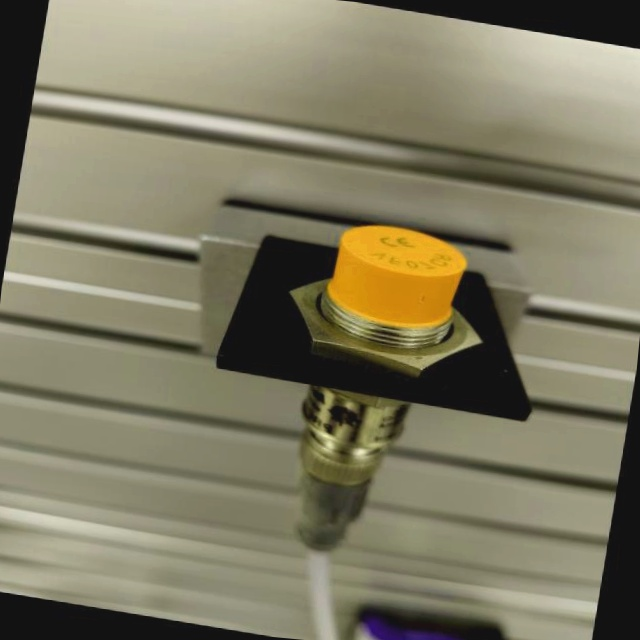inductive sensor: (136, 182, 570, 589)
